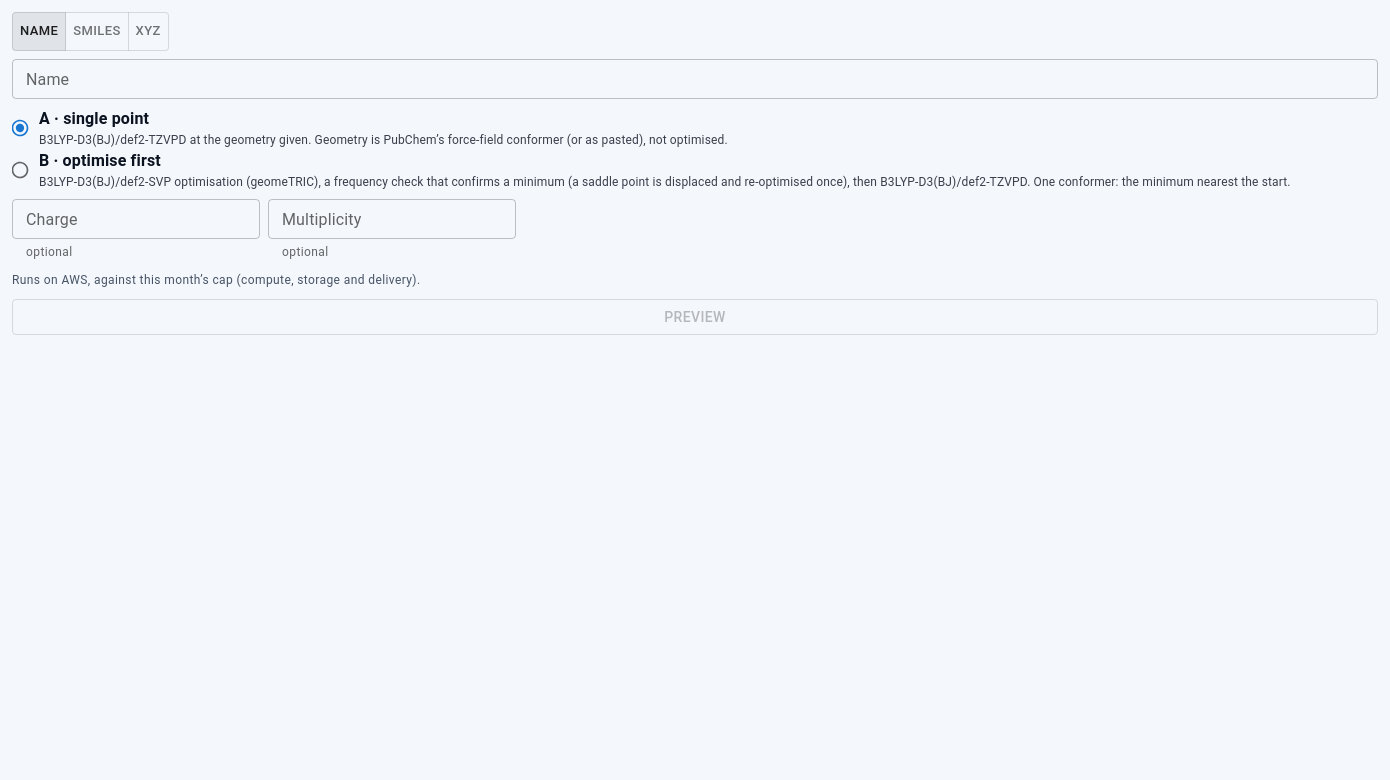
Test case: previewing › still shows what a refused molecule resolved to, with the reason, and cannot submit it
Type "water" into the field named "molecule (Name)".
click(695, 79); type("water")  # box [12, 59, 1378, 99]
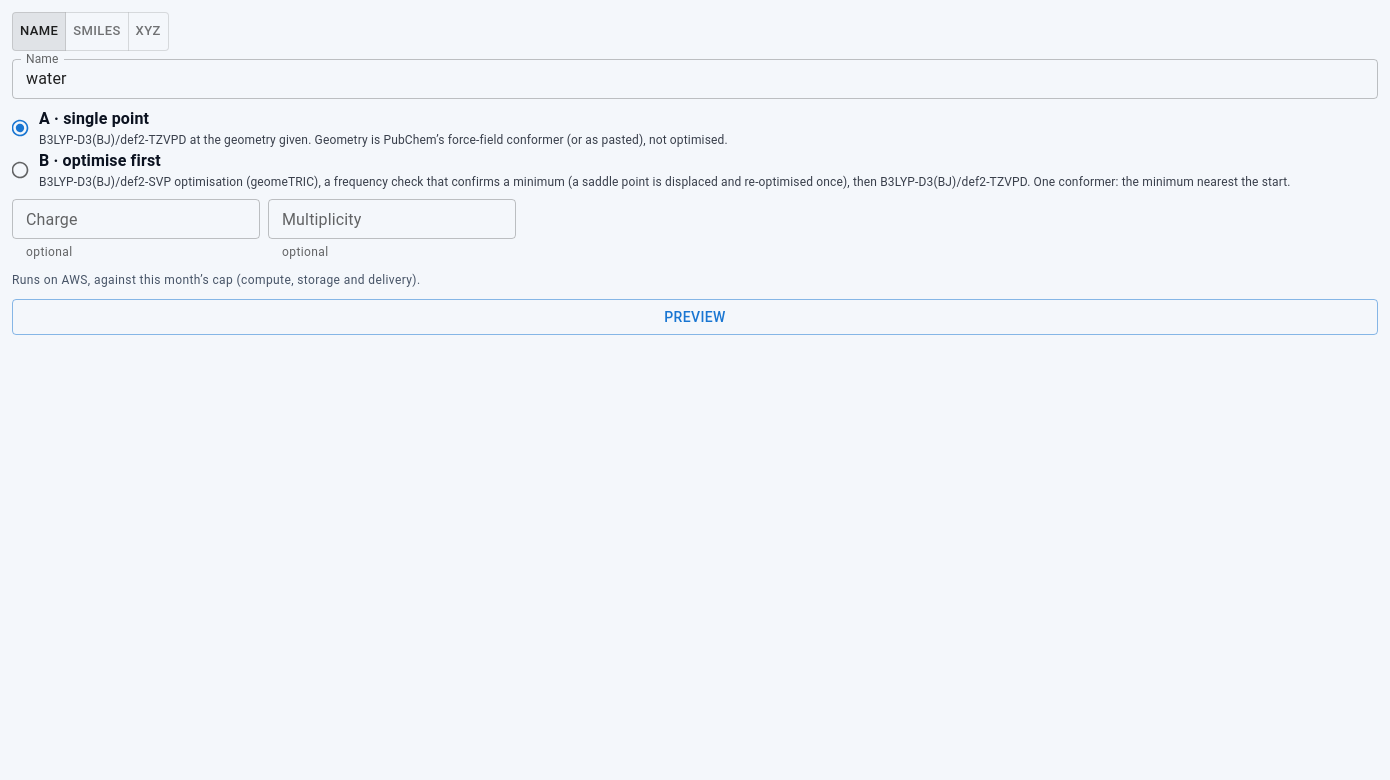
Click the button "Preview".
click(695, 317)  # box [12, 299, 1378, 335]
(page scrolled)
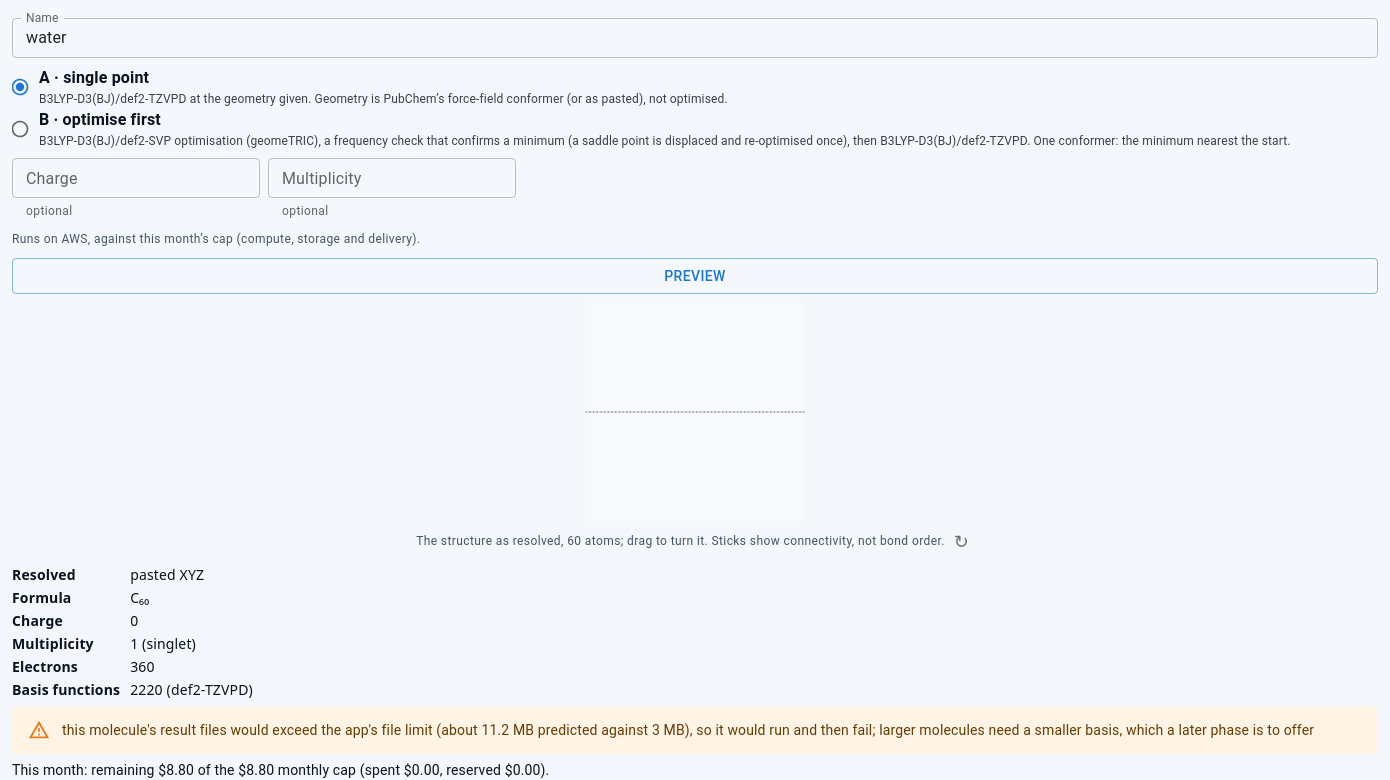
Expected: the picture named "60 atoms" is shown, [585, 302, 805, 522]
